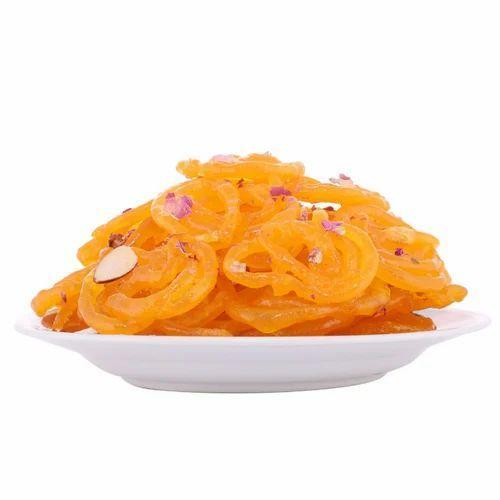jalebi: (36, 152, 457, 333)
